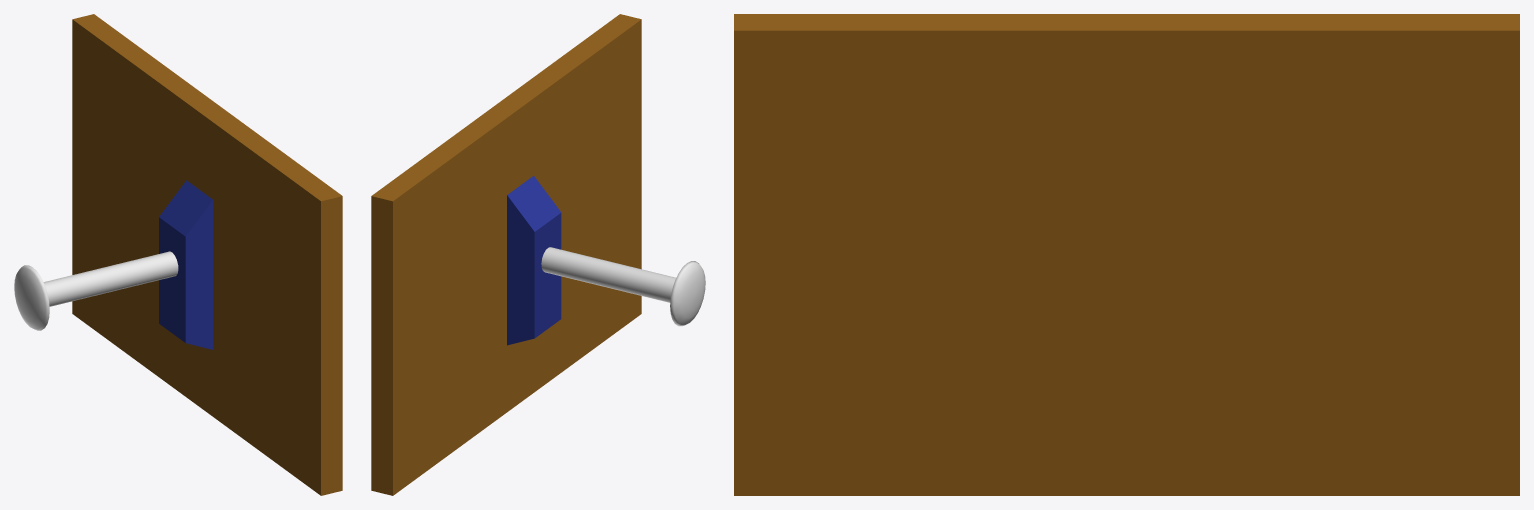
File: switch_arm.FBX
3 renders of one model, left to right at view 1: azimuth 30°, elevation 25°; view 2: azimuth 150°, elevation 25°; view 3: azimuth 270°, elevation 25°, orthographic. The views are drawn at different scales.
Visible parts, largest first — view 1: dlyaEvgena, unwrapped_cylinder; view 2: dlyaEvgena, unwrapped_cylinder; view 3: dlyaEvgena.
Part boxes in pixels (x1,y1,x2,y2): dlyaEvgena: (72, 14, 342, 495); unwrapped_cylinder: (14, 251, 178, 330); dlyaEvgena: (371, 14, 641, 495); unwrapped_cylinder: (541, 247, 705, 326); dlyaEvgena: (734, 14, 1519, 495).
Bounding box in the file's own units: 11.12 × 15.88 × 24.31.
